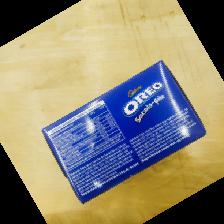Oreo: (41, 60, 207, 205)
